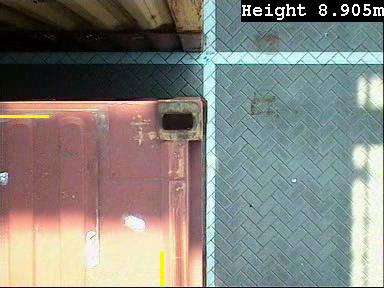groundmarker_2: (10, 113, 125, 288)
